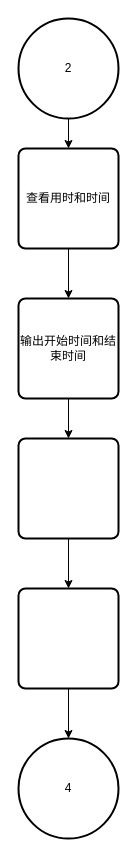
The diagram is 136 pixels wide and 856 high, and some of its shapes have lost their labels. The centre of each missing label's shape, as x and y in pixels:
"结束时间减去开始时间得到总用时，输出总用时" belongs at point 68,488.
"输出正确字符数和总字符数" belongs at point 68,638.
